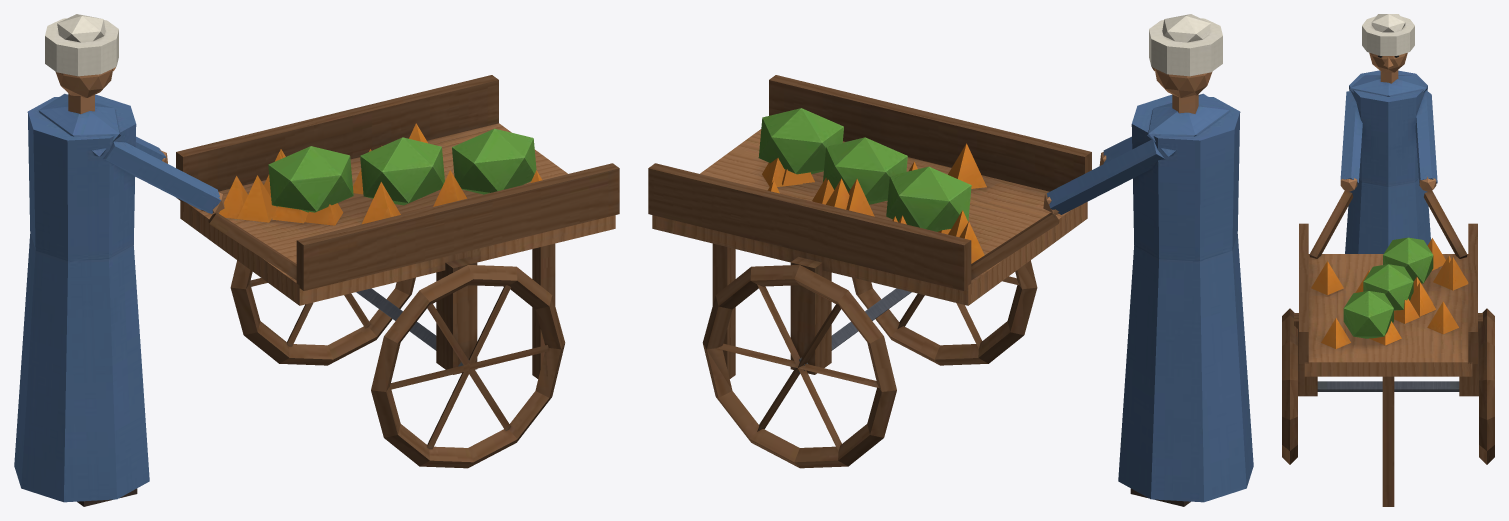
Rendered from handlare_karra_tex.glb.
3 renders of one model, left to right at view 1: azimuth 30°, elevation 25°; view 2: azimuth 150°, elevation 25°; view 3: azimuth 270°, elevation 25°, orthographic. The views are drawn at different scales.
Parts seen in each view (by area): view 1: handlare_karra; view 2: handlare_karra; view 3: handlare_karra.
Part boxes in pixels (bbox=[...]): handlare_karra: bbox=[14, 14, 619, 506]; handlare_karra: bbox=[648, 14, 1253, 506]; handlare_karra: bbox=[1282, 14, 1494, 506].
Bounding box in the file's own units: 2.2 × 1.88 × 1.08.
Materials: 10 (9 with a texture image).
